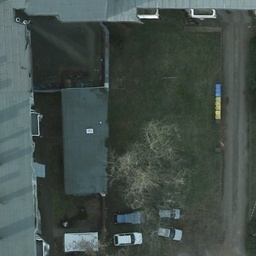car: (154, 225, 184, 242), (114, 228, 142, 246), (156, 205, 182, 219)
